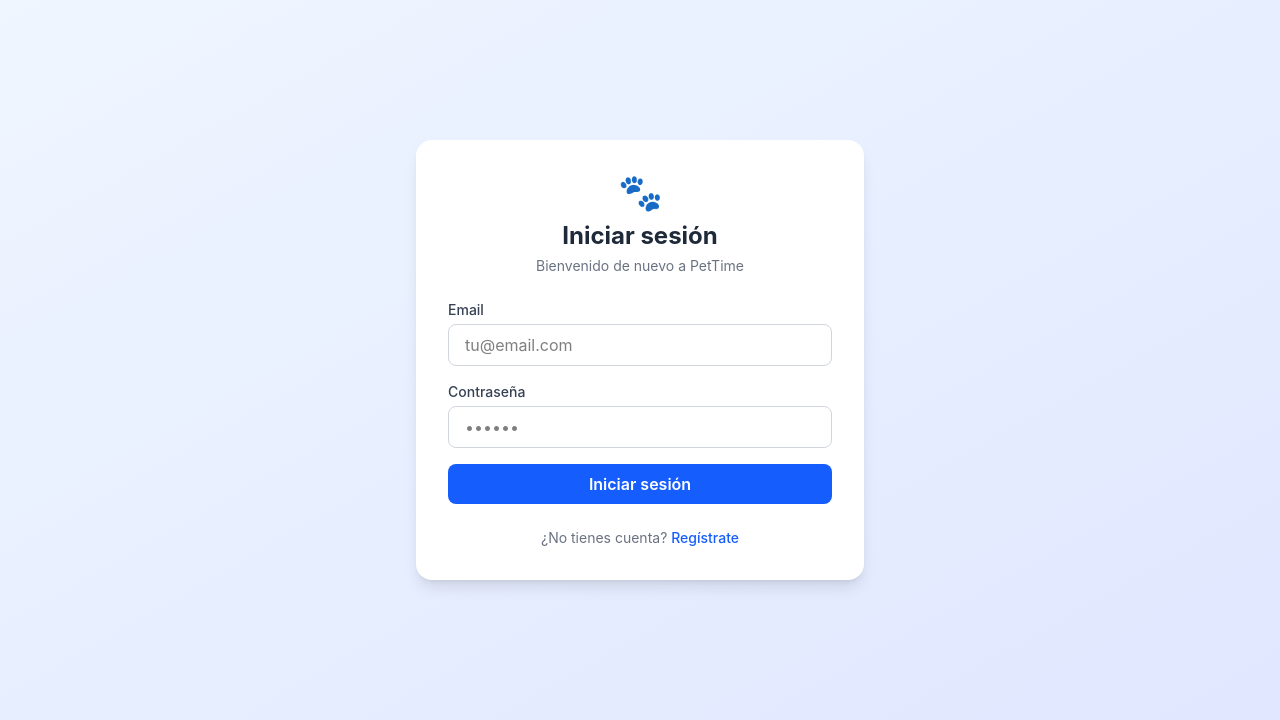
Test: Mascotas › muestra el formulario al hacer click en + Agregar mascota
Type "test@test.com" into the field named "email". click: {"x": 640, "y": 345}
box: [448,324,832,366]
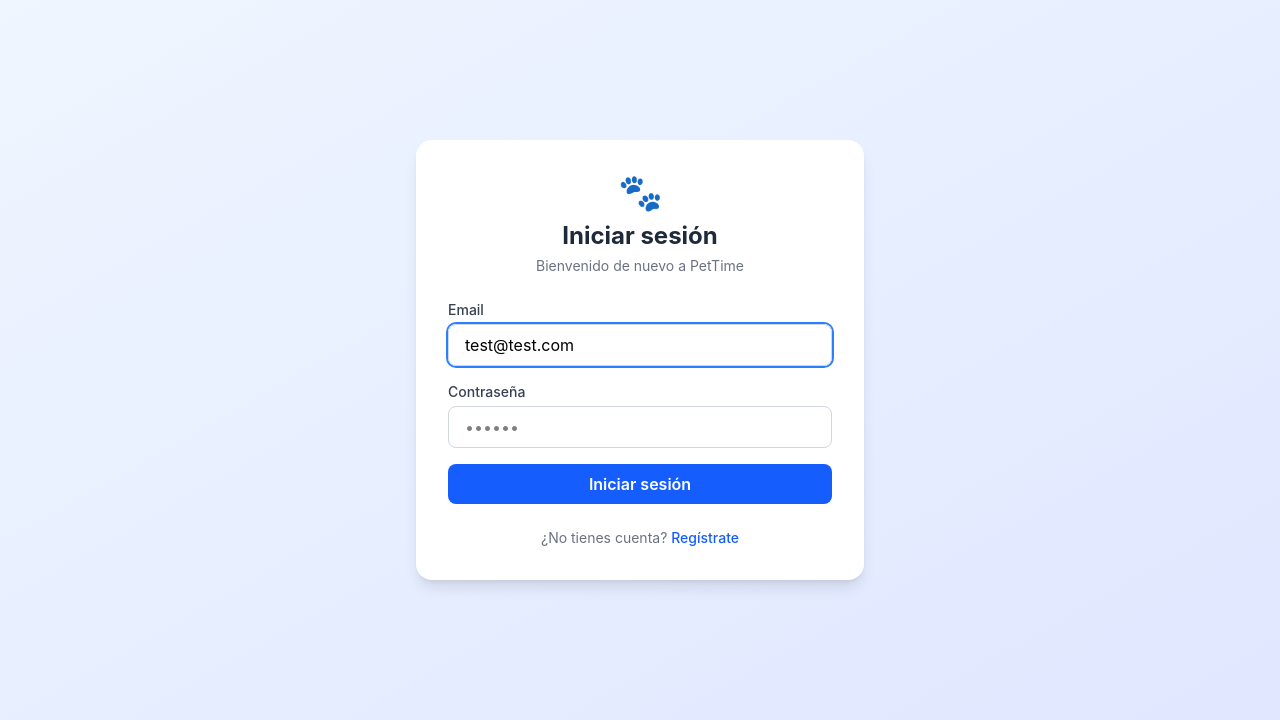
Type "password123" into the password field named "password". click: {"x": 640, "y": 427}
box: [448,406,832,448]
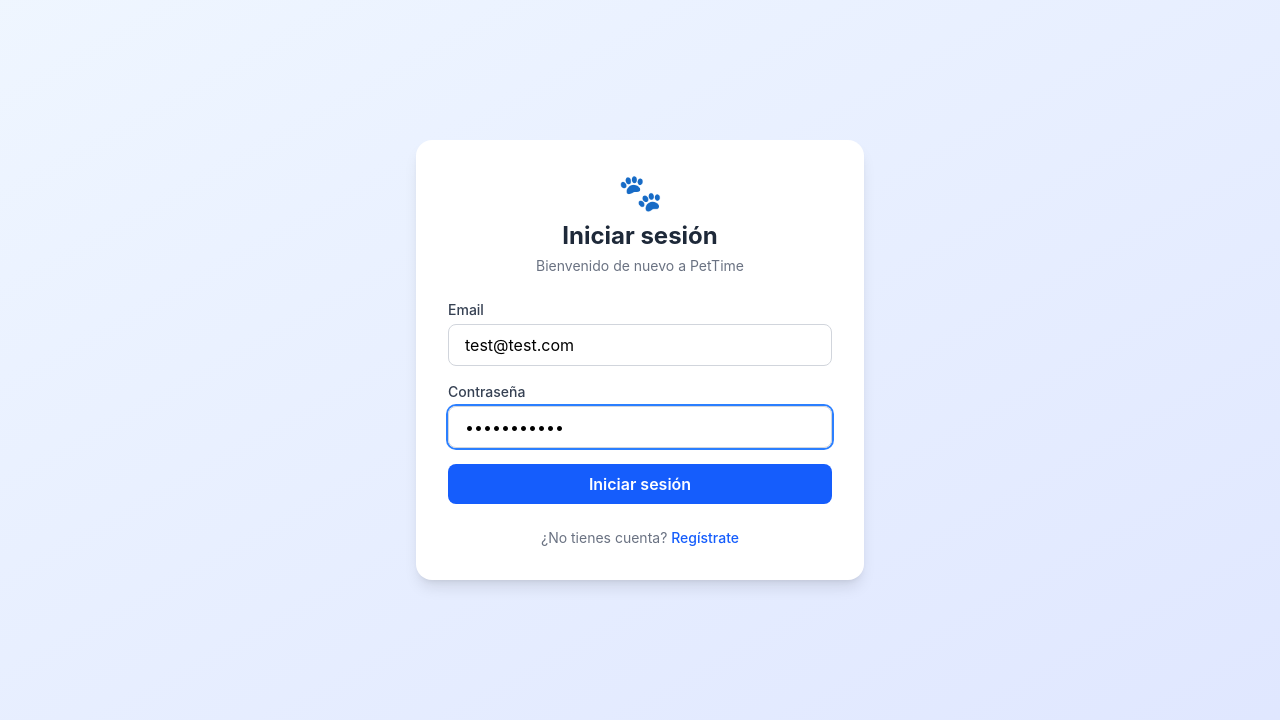
Click the submit button. click: {"x": 640, "y": 484}
box: [448,464,832,504]
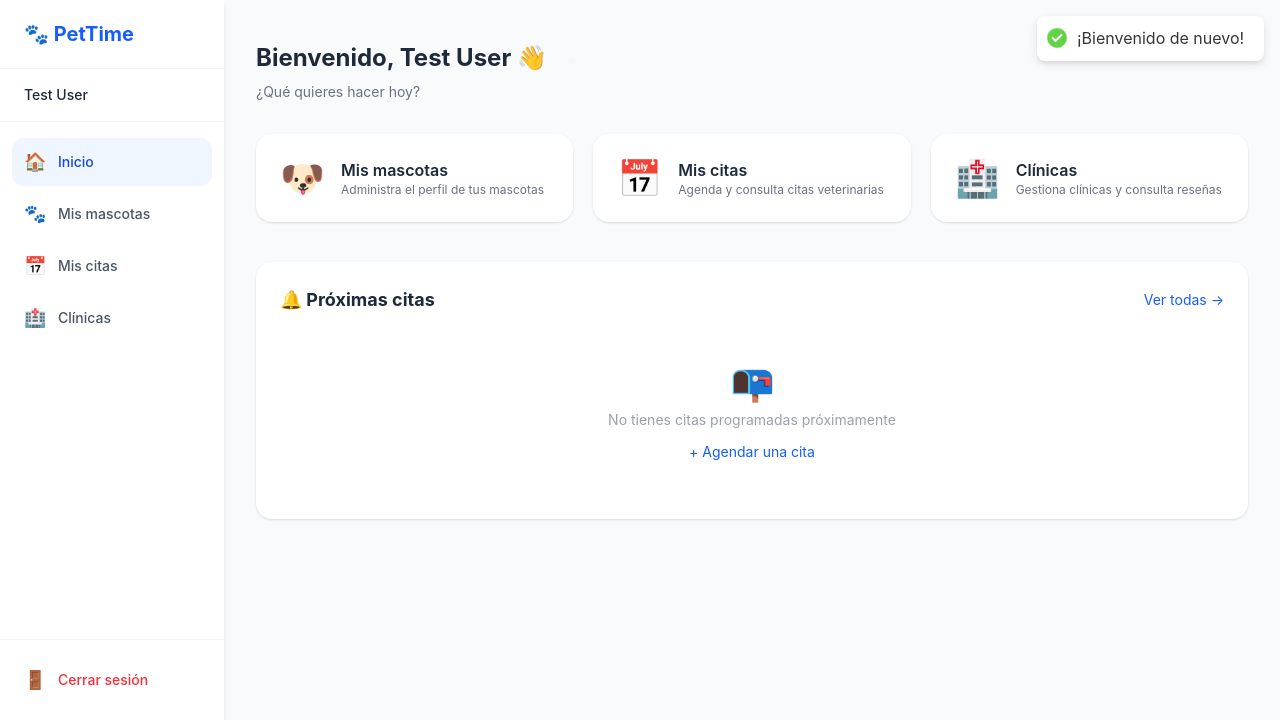
Open "/pets"
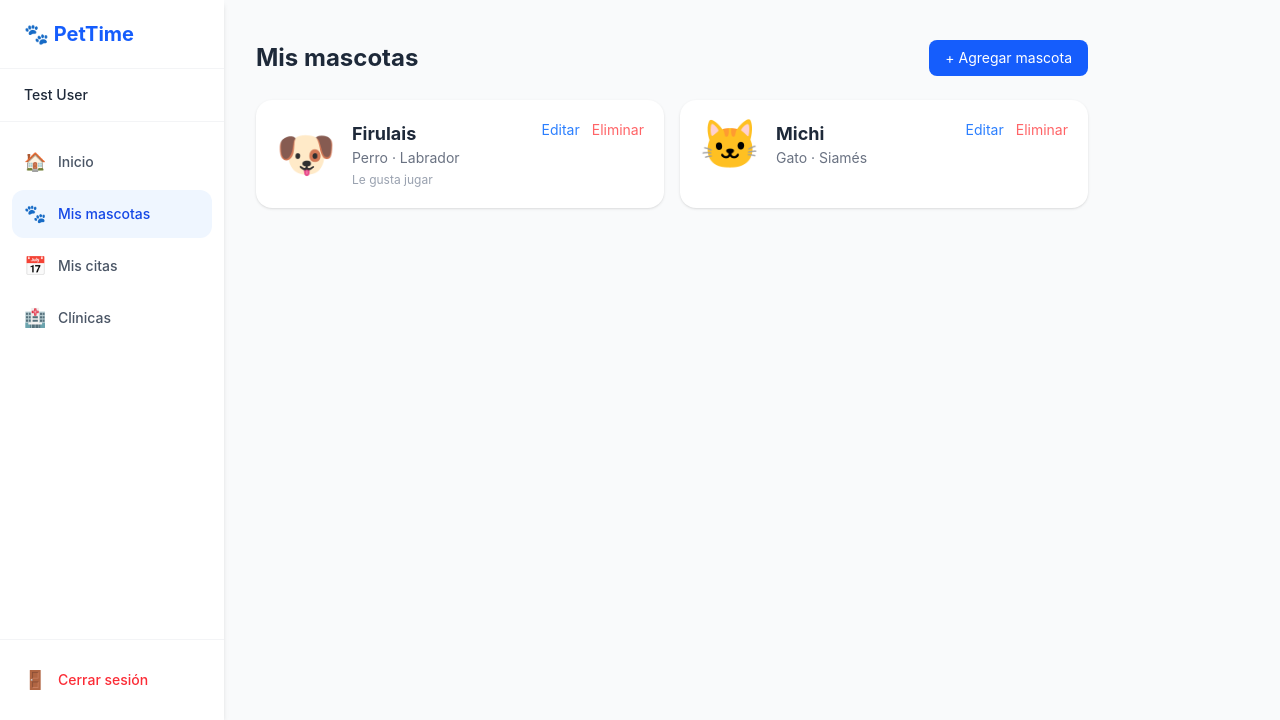
Click the button "+ Agregar mascota". click: {"x": 1009, "y": 58}
box: [929,40,1088,76]
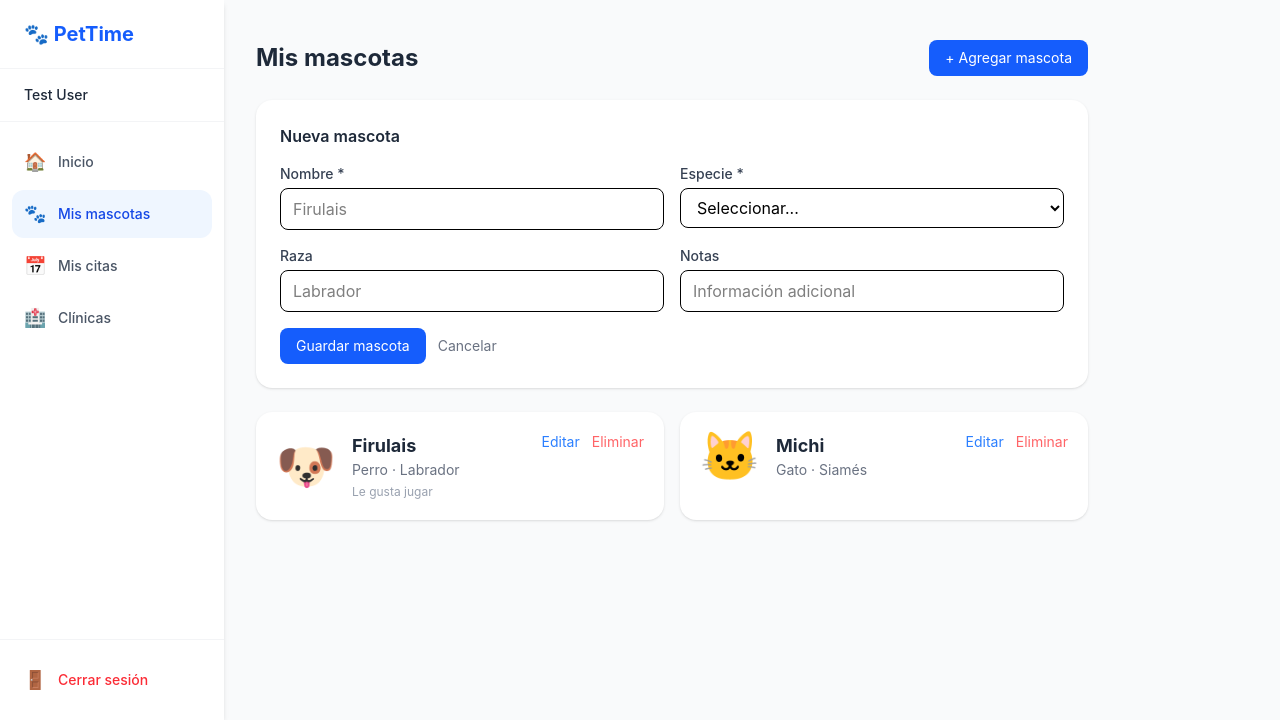
Result: the heading "Nueva mascota" is shown at [280,126,400,146]
Result: the field with placeholder "Firulais" is shown at [280,188,664,230]
